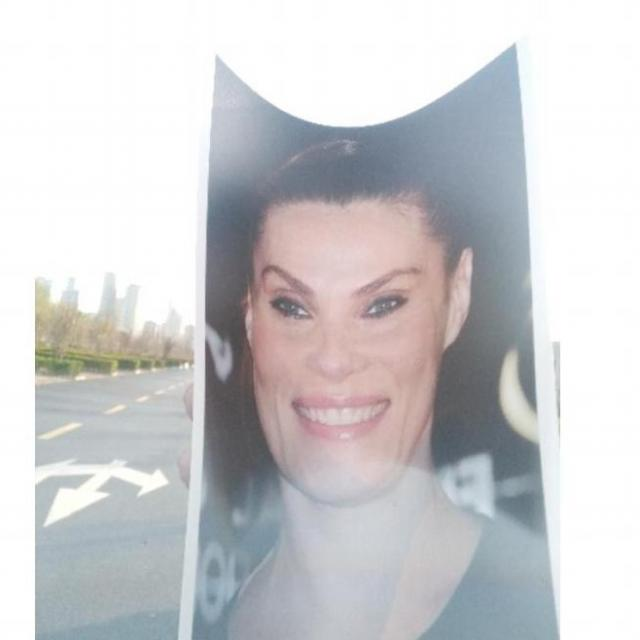photo: (175, 33, 559, 640)
